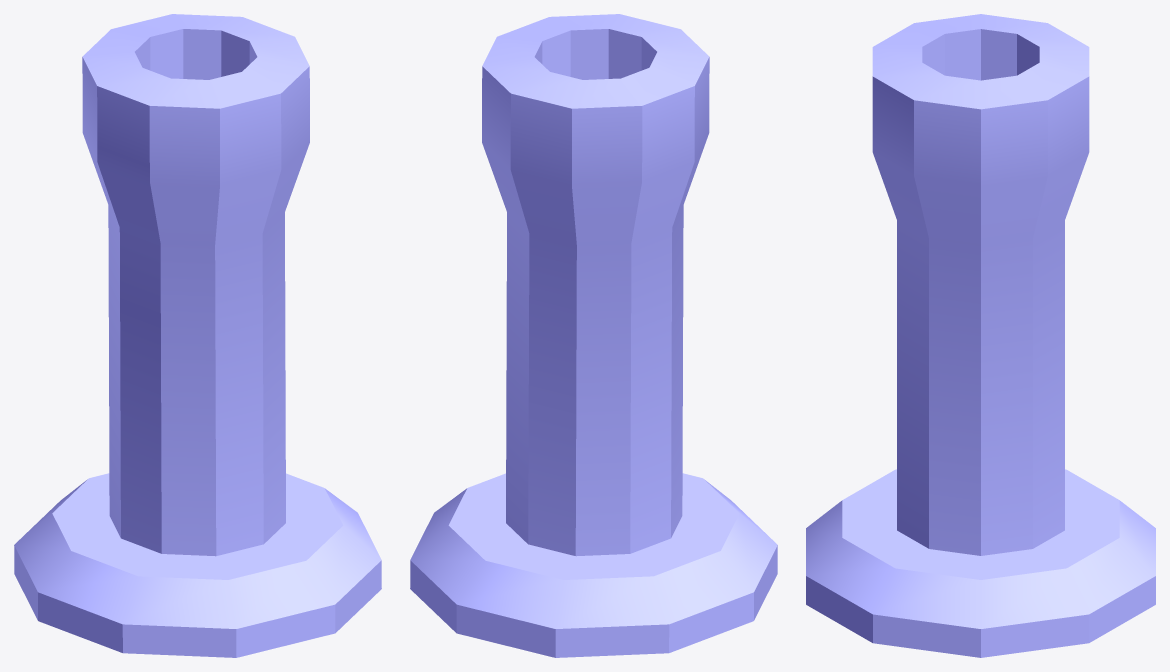
File: FinishConfetiTube.fbx
3 views of the same model, side by side, from view 1: azimuth 30°, elevation 25°; view 2: azimuth 150°, elevation 25°; view 3: azimuth 270°, elevation 25° (orthographic).
Visible parts, largest first — view 1: Cylinder003; view 2: Cylinder003; view 3: Cylinder003.
Boxes of the visible parts, left/top/right/bottom form: Cylinder003: left=14, top=14, right=381, bottom=657; Cylinder003: left=410, top=14, right=777, bottom=657; Cylinder003: left=806, top=14, right=1155, bottom=657.
Bounding box in the file's own units: 25.27 × 39.84 × 24.02.
